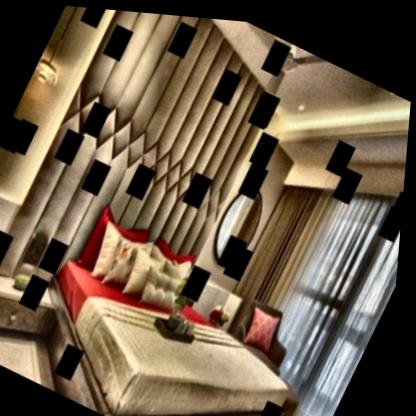Bed: (12, 190, 331, 416)
Lamp: (29, 2, 114, 96)
Nightstand: (0, 242, 66, 369)
